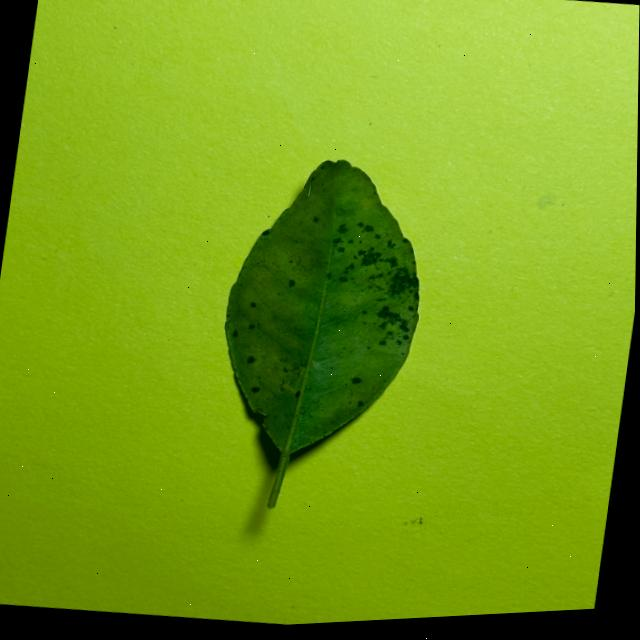sooty_mold: (224, 159, 418, 506)
